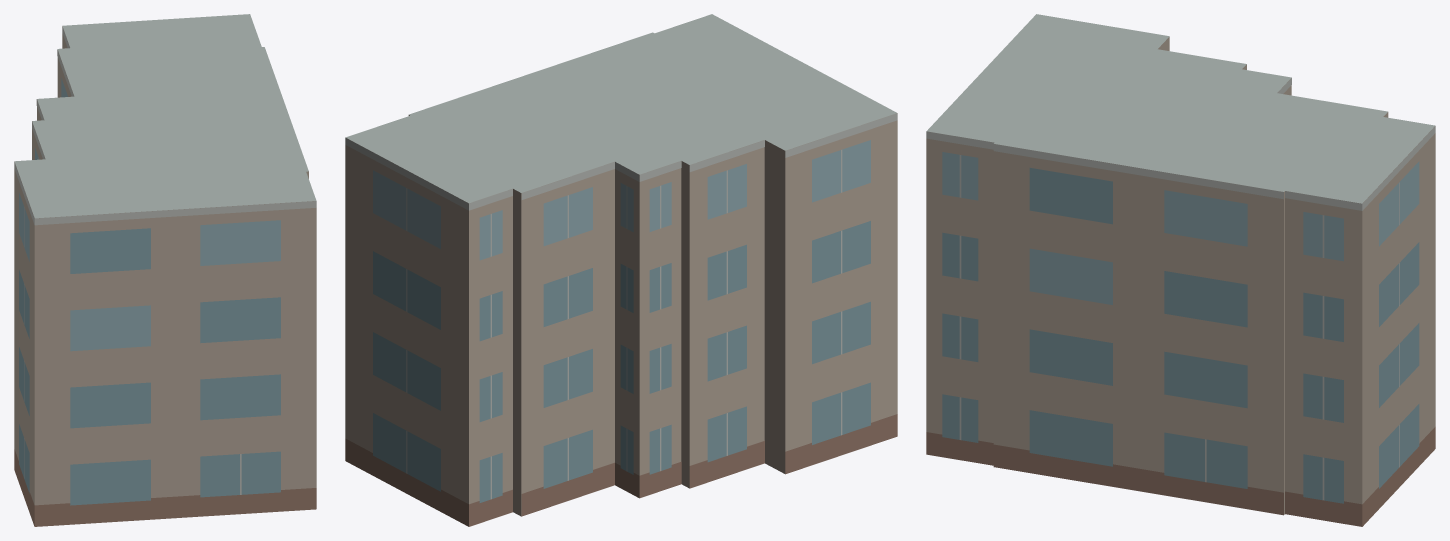
Rendered from survey-upis-32749098.glb.
3 renders of one model, left to right at view 1: azimuth 30°, elevation 25°; view 2: azimuth 150°, elevation 25°; view 3: azimuth 270°, elevation 25°, orthographic. The views are drawn at different scales.
Visible parts, largest first — view 1: survey-upis-32749098.tmp; view 2: survey-upis-32749098.tmp; view 3: survey-upis-32749098.tmp.
Part boxes in pixels (x1,y1,x2,y2): survey-upis-32749098.tmp: (14,14,316,526); survey-upis-32749098.tmp: (345,14,897,526); survey-upis-32749098.tmp: (926,14,1435,526).
Size of the model in its own units: 13.66 by 10.85 by 15.5.
